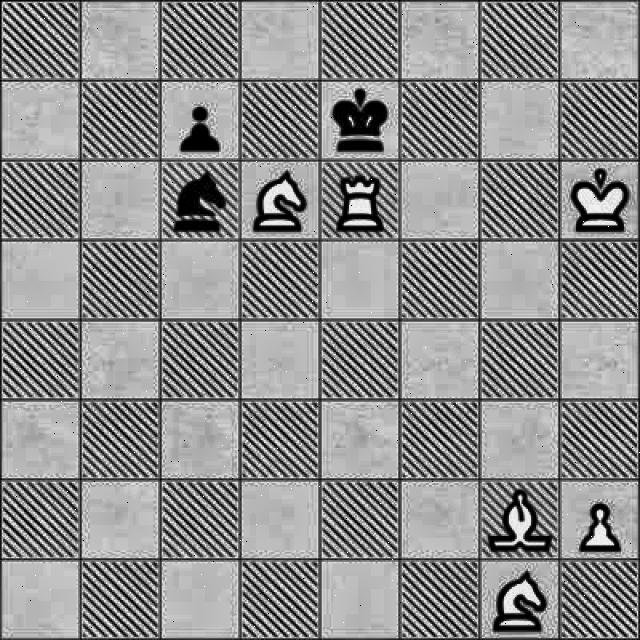Black Knight: (169, 162, 236, 236)
black king: (325, 84, 396, 158)
black pawn: (172, 90, 230, 156)
white bishop: (487, 482, 552, 552)
white king: (564, 163, 636, 236)
white pawn: (574, 496, 630, 554)
white rook: (328, 164, 397, 240)
whiteknight: (488, 563, 560, 640), (248, 168, 318, 234)
